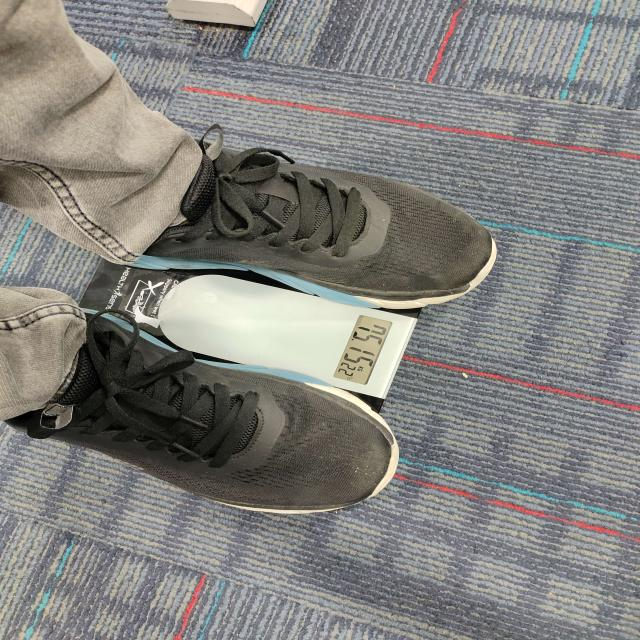ws: (158, 275, 419, 406)
